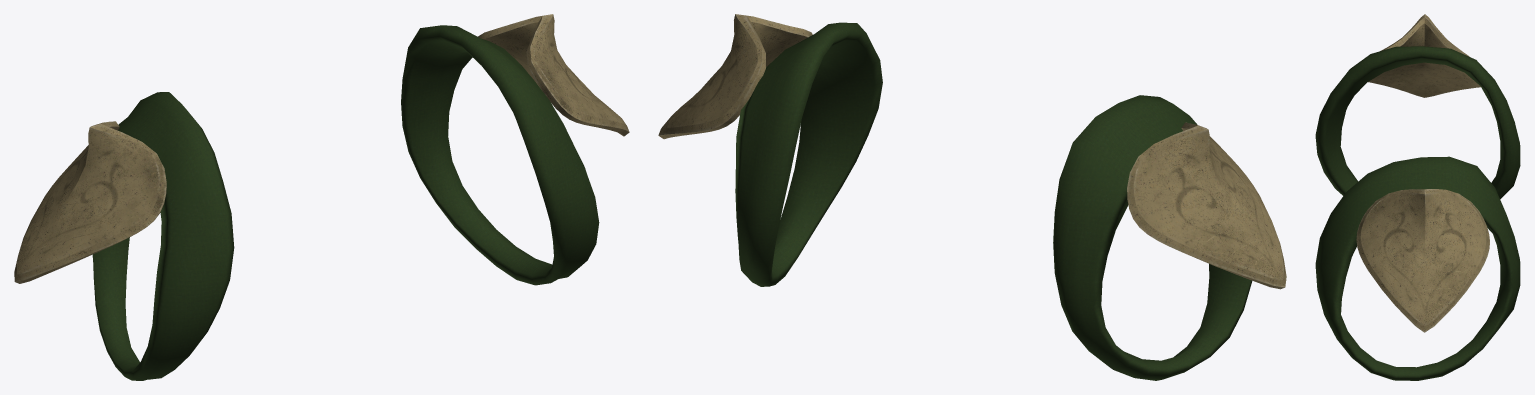
The model's file is am_golden_flower_knight_pauldrons_grey_a02.fbx.
3 renders of one model, left to right at view 1: azimuth 30°, elevation 25°; view 2: azimuth 150°, elevation 25°; view 3: azimuth 270°, elevation 25°, orthographic. The views are drawn at different scales.
Visible parts, largest first — view 1: am_golden_flower_knight_pauldrons_grey_a02; view 2: am_golden_flower_knight_pauldrons_grey_a02; view 3: am_golden_flower_knight_pauldrons_grey_a02.
Part boxes in pixels (x1,y1,x2,y2): am_golden_flower_knight_pauldrons_grey_a02: (14, 14, 629, 380); am_golden_flower_knight_pauldrons_grey_a02: (658, 14, 1286, 380); am_golden_flower_knight_pauldrons_grey_a02: (1315, 14, 1520, 380).
Size of the model in its own units: 0.6308 by 0.229 by 0.249.
1 material, 1 textured.
